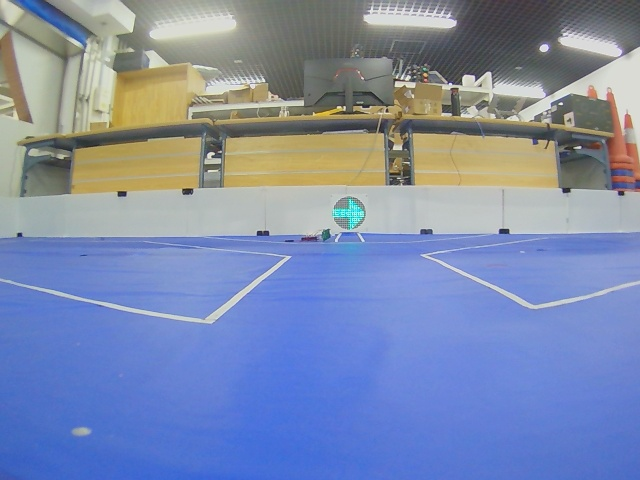right_green: (332, 196, 366, 230)
